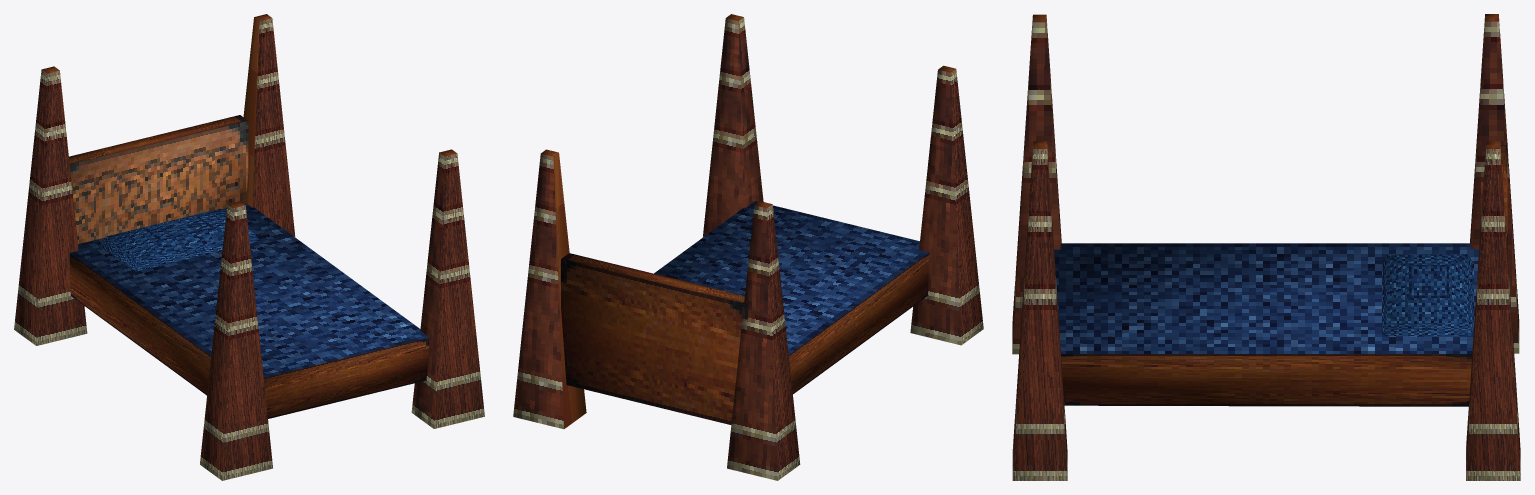
The model's file is BED4_ACTORDEF.fbx.
3 views of the same model, side by side, from view 1: azimuth 30°, elevation 25°; view 2: azimuth 150°, elevation 25°; view 3: azimuth 270°, elevation 25° (orthographic). The views are drawn at different scales.
Visible parts, largest first — view 1: U3DMesh; view 2: U3DMesh; view 3: U3DMesh.
Part boxes in pixels (x1=…): U3DMesh: x1=14, y1=14, x2=484, y2=480; U3DMesh: x1=513, y1=14, x2=983, y2=480; U3DMesh: x1=1012, y1=14, x2=1520, y2=480.
Bounding box in the file's own units: 7.91 × 7.49 × 10.76.
